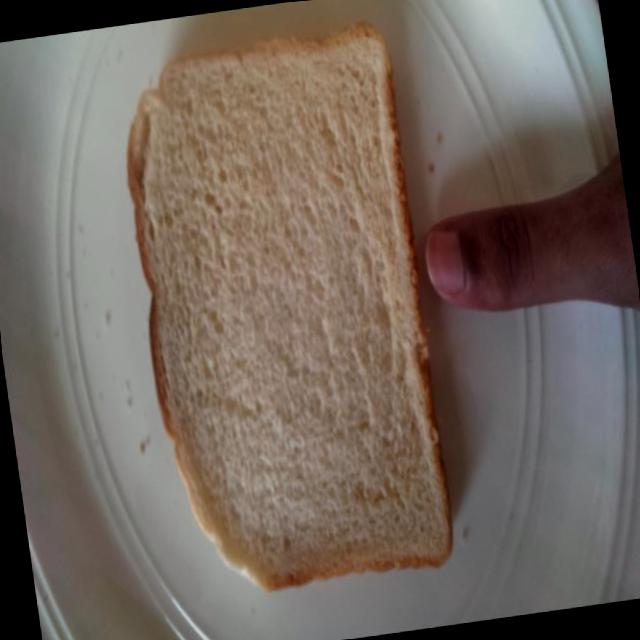Bread: (101, 2, 469, 628)
Finger: (410, 184, 560, 334)
